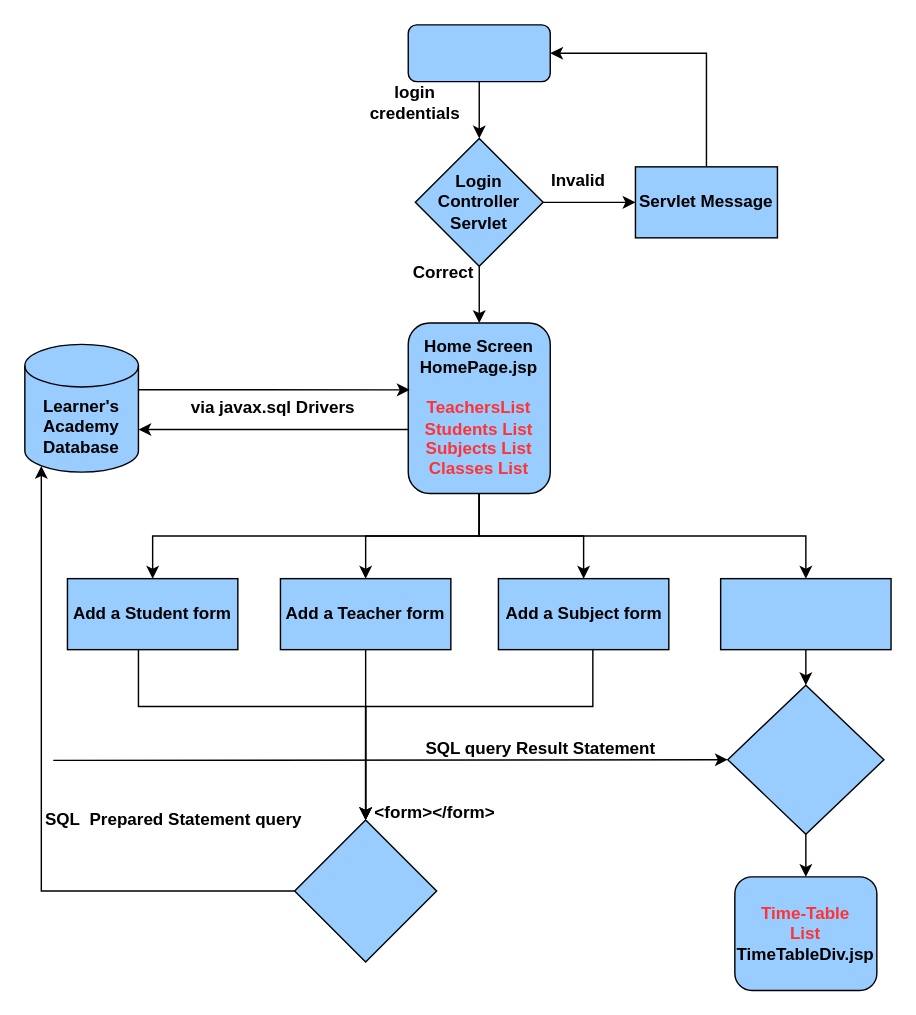
This 916x1015 diagram has some shape labels left out. Each missing label, with the centre of its shape:
Database Adder Servlet: the point at 365,890
Login Screen Index.html: the point at 478,52
Show Time-Tables: the point at 805,613
Time Scheduler Servlet: the point at 805,759
